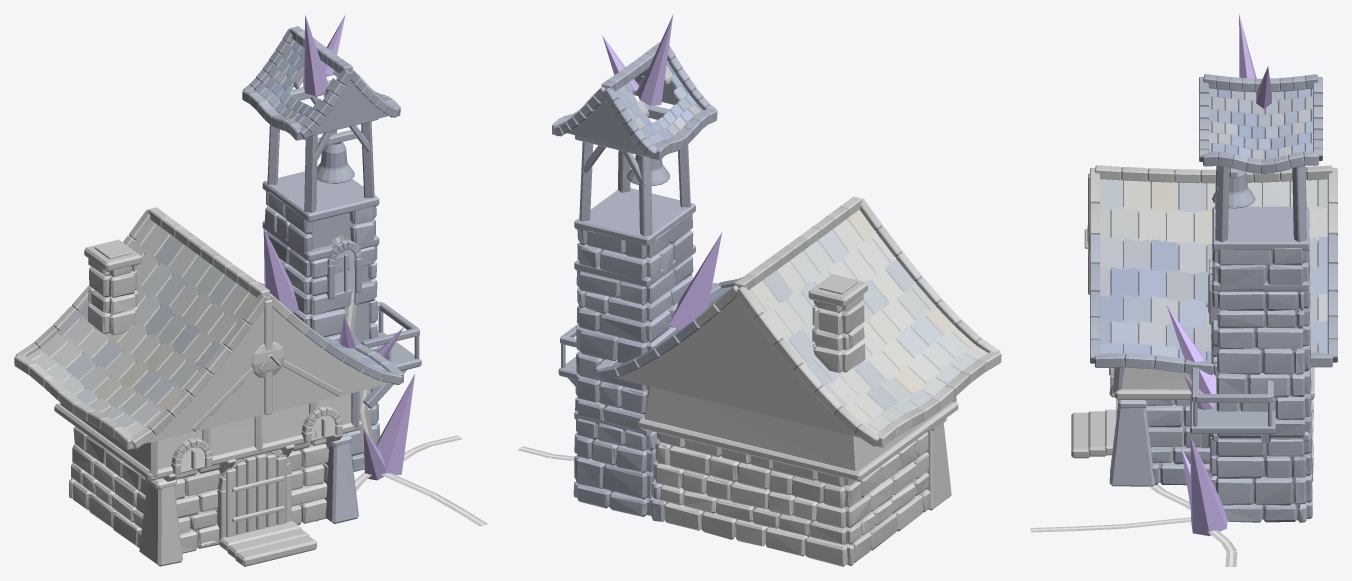
Rendered from Reboot_Corrupt.fbx.
The picture shows the model from 3 angles, left to right: view 1: azimuth 30°, elevation 25°; view 2: azimuth 150°, elevation 25°; view 3: azimuth 270°, elevation 25°; orthographic projection. The views are drawn at different scales.
Parts seen in each view (by area): view 1: Family_corrupt; view 2: Family_corrupt; view 3: Family_corrupt.
Part boxes in pixels (box(x1,y1,x2,y2)): Family_corrupt: box(14, 14, 487, 566); Family_corrupt: box(517, 14, 1001, 566); Family_corrupt: box(1030, 14, 1337, 566).
Size of the model in its own units: 987 by 1097 by 634.
